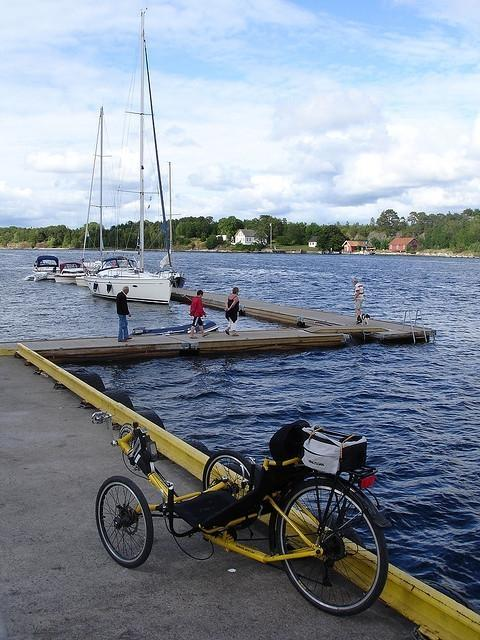bicycle: (86, 410, 392, 616)
